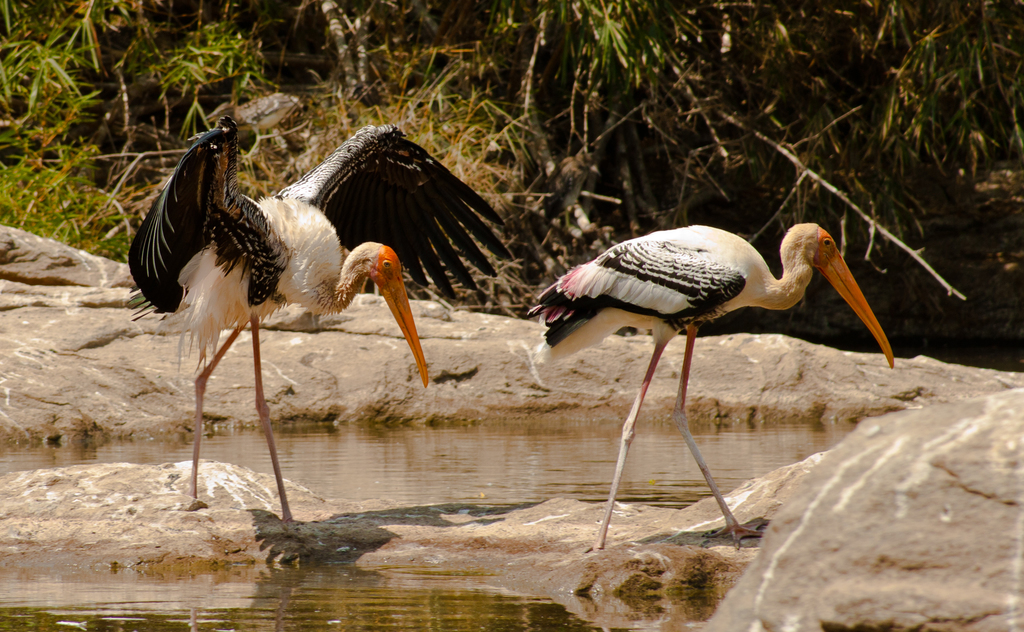Bird: (126, 115, 511, 524), (526, 222, 895, 555)
